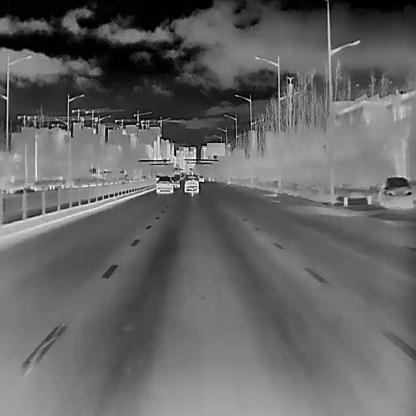car: (376, 175, 412, 209), (156, 174, 173, 192), (184, 174, 198, 192), (169, 174, 180, 188), (197, 173, 203, 181)
